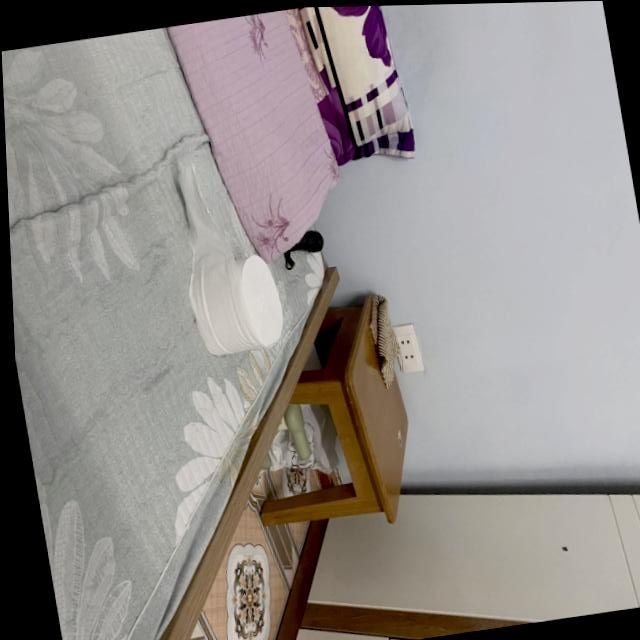outlet: (392, 321, 426, 374)
